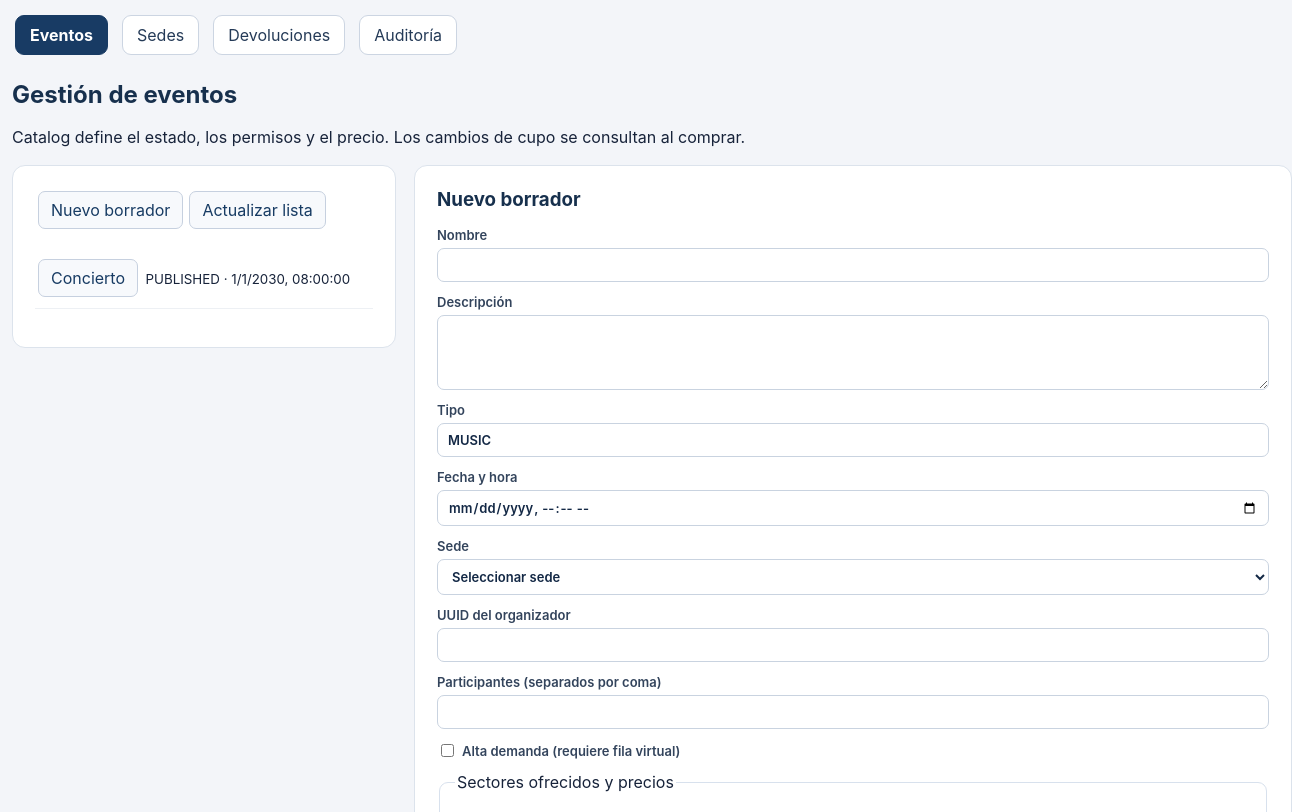
operaciones por Gateway › ante conflicto de revisión o transición refresca el evento y conserva el error
Click the button "Concierto" at (88, 278), box [38,259,138,297]
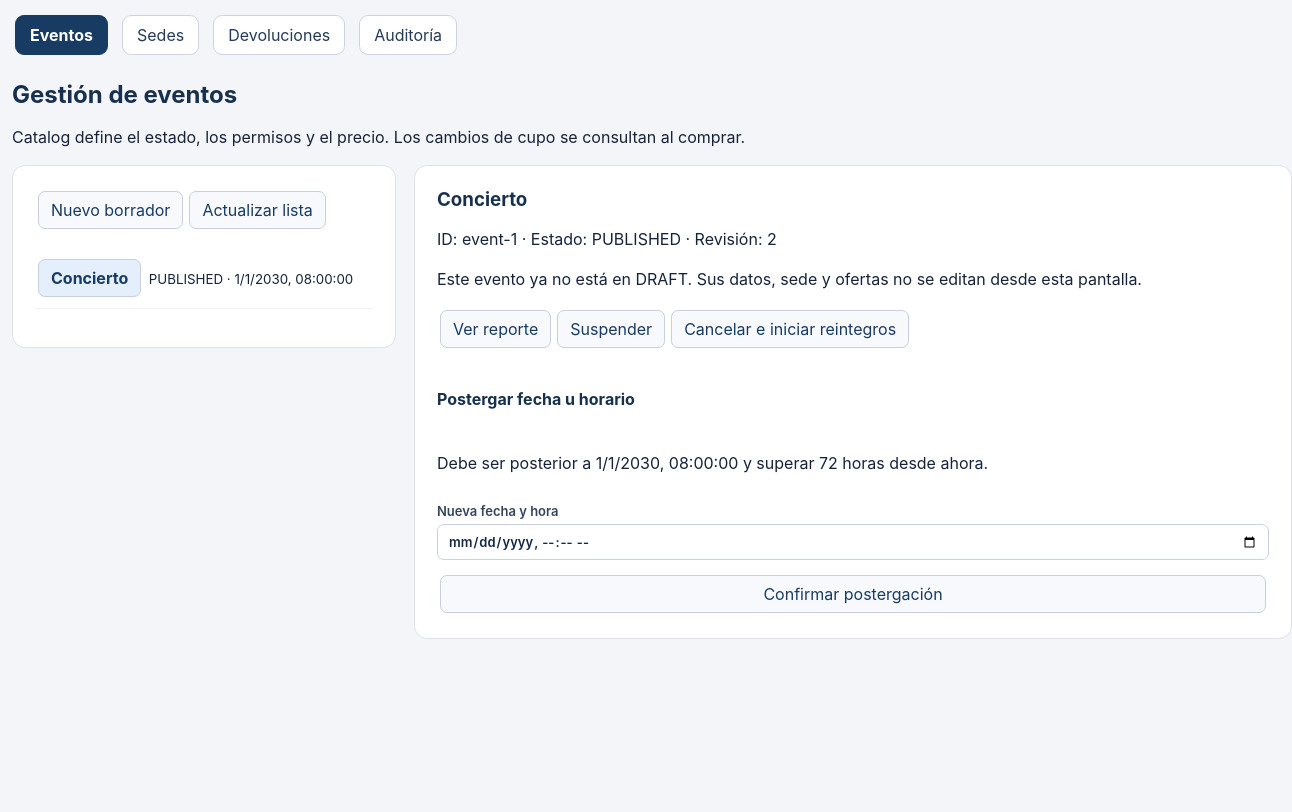
Type "2030-02-01T20:00" into the field labelled "Nueva fecha y hora" at (853, 542), box [437,524,1269,560]
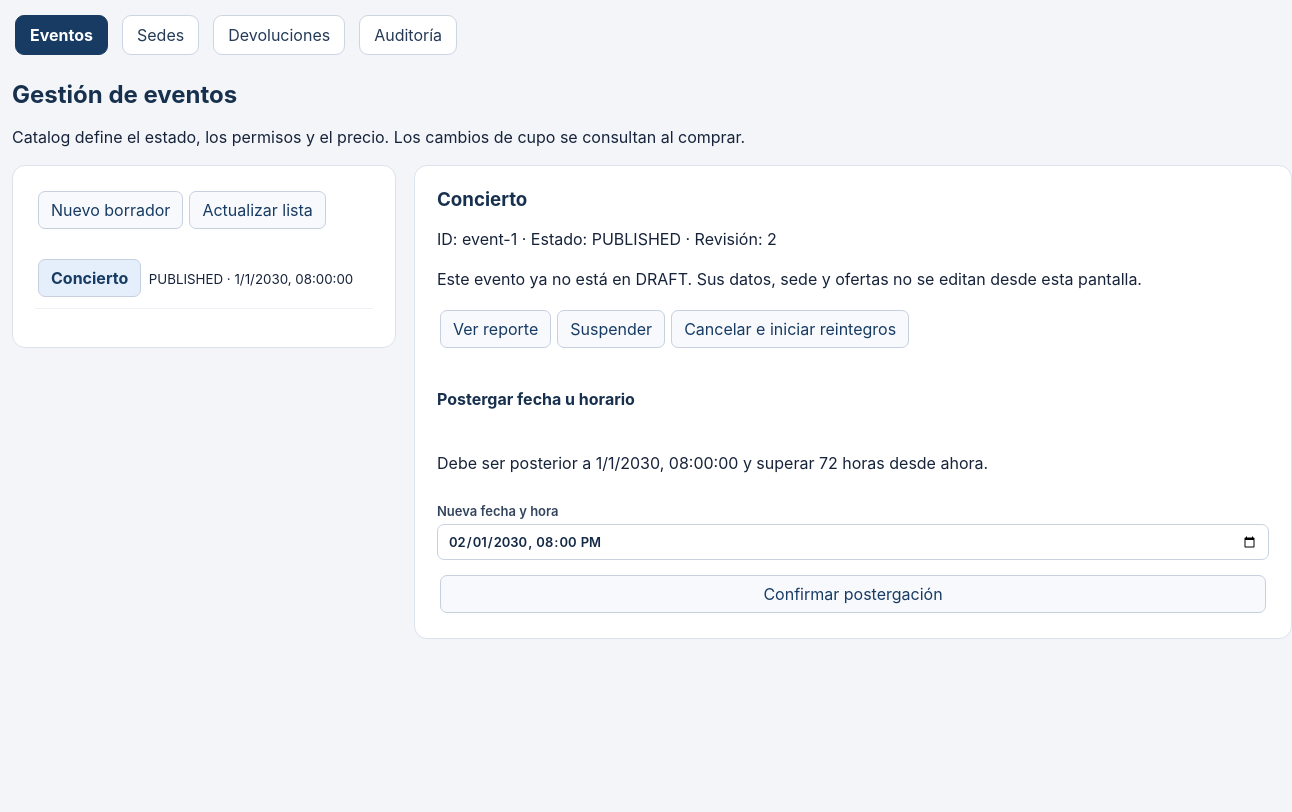
Click the button "Confirmar postergación" at (853, 594), box [440,575,1266,613]
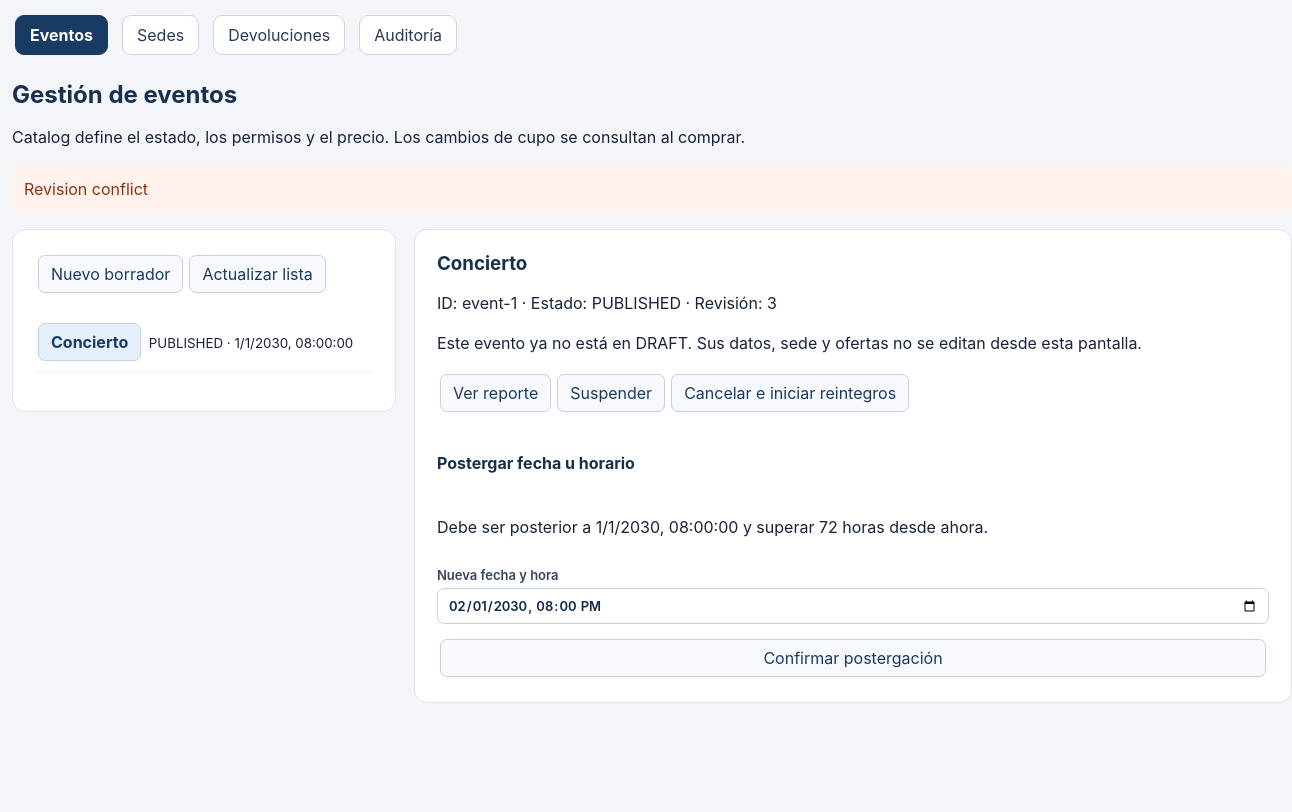
expect the text "Revision conflict" is shown: met, box [12,165,1291,213]
expect the text "ID: event-1 · Estado: PUBLISHED · Revisión: 3" is shown: met, box [437,293,777,313]
Click the button "Suspender" at (611, 393), box [557,374,665,412]
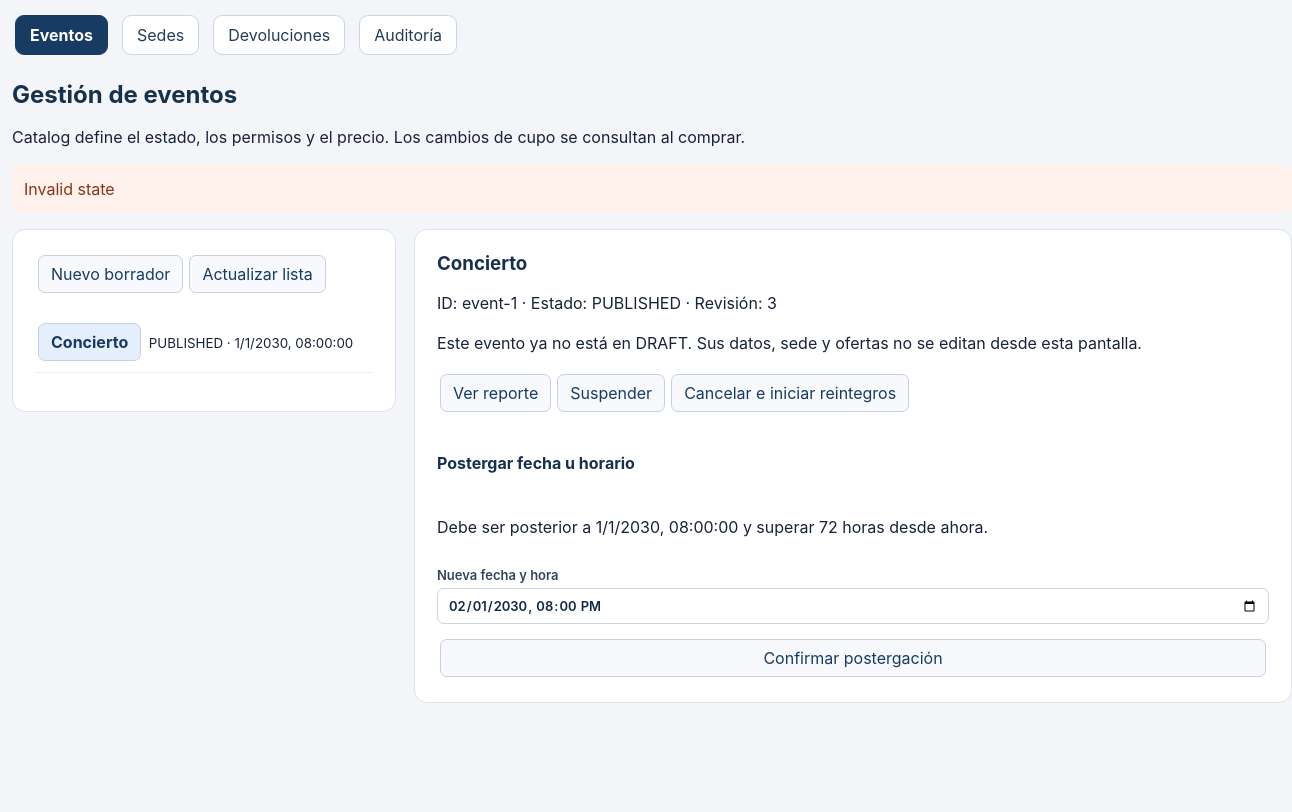
expect the text "Invalid state" is shown: met, box [12,165,1291,213]
